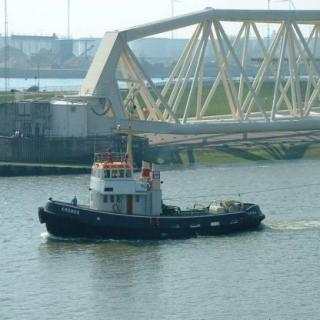Tug Boat: (23, 10, 320, 243)
